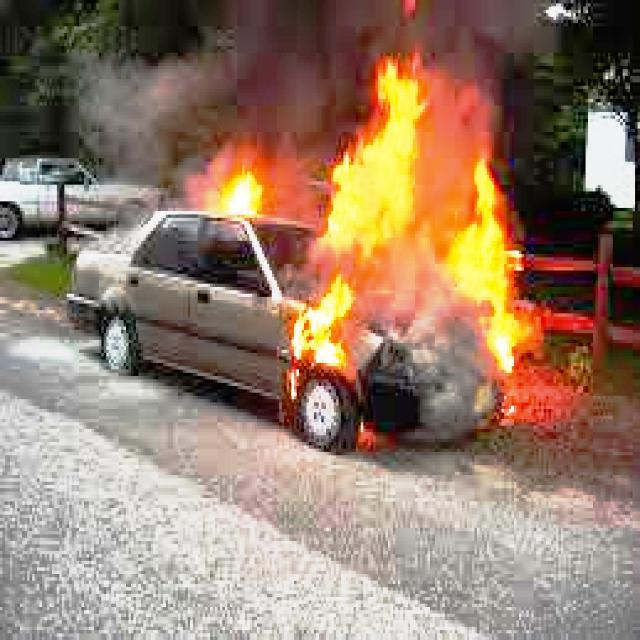api: (317, 51, 545, 367), (201, 163, 263, 222)
